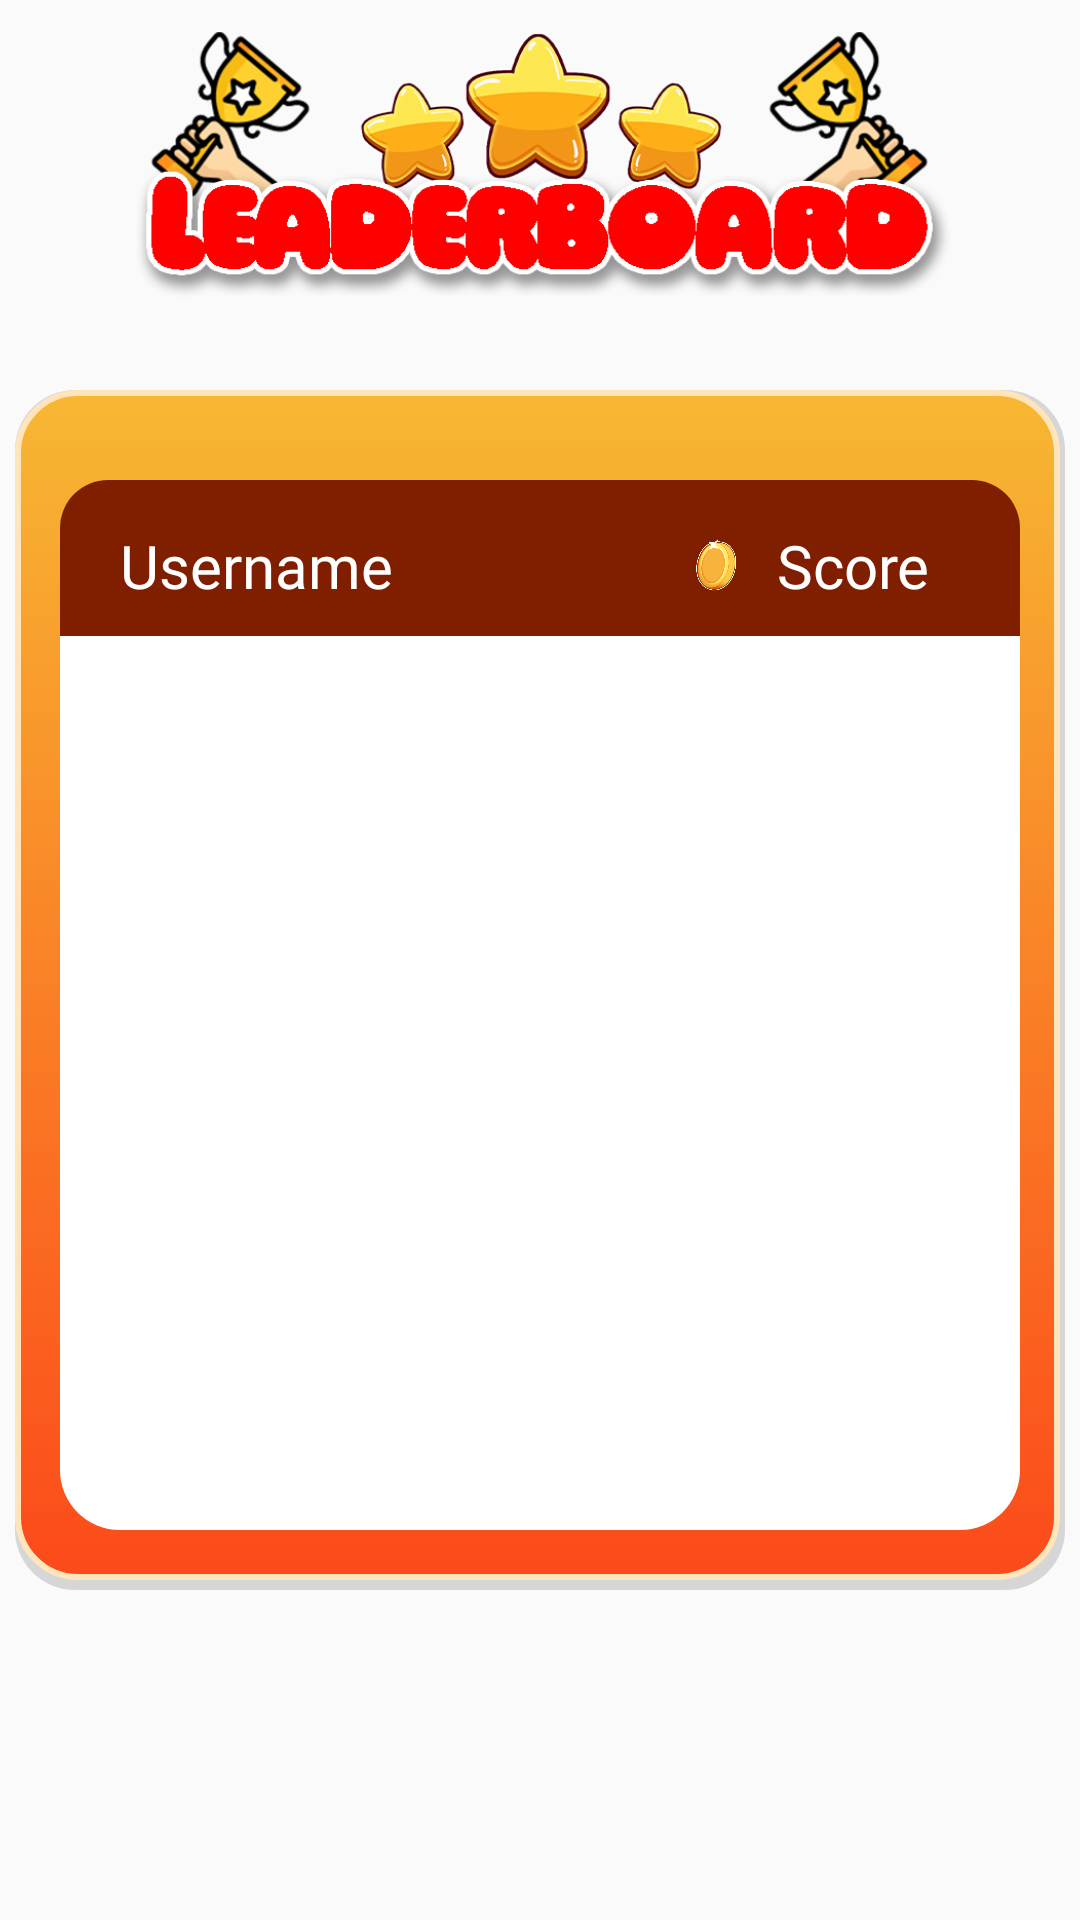

Where icons sit on this 1080×1920 app screen, as (x1, y1, x2, y2):
coin: (696, 540, 736, 590)
